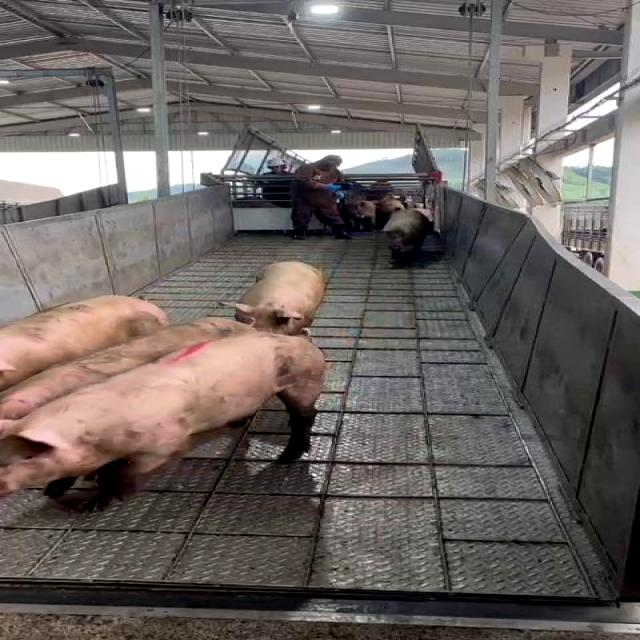pig: (2, 331, 325, 507), (0, 318, 253, 418), (0, 295, 167, 389), (220, 261, 325, 335), (383, 209, 433, 256)
